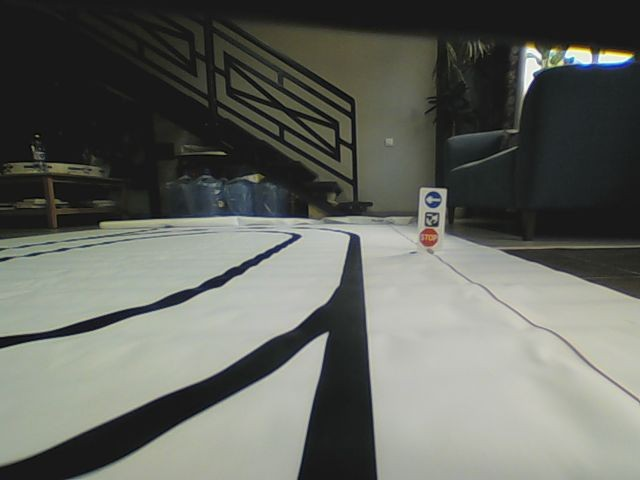Stop: (418, 228, 439, 246)
